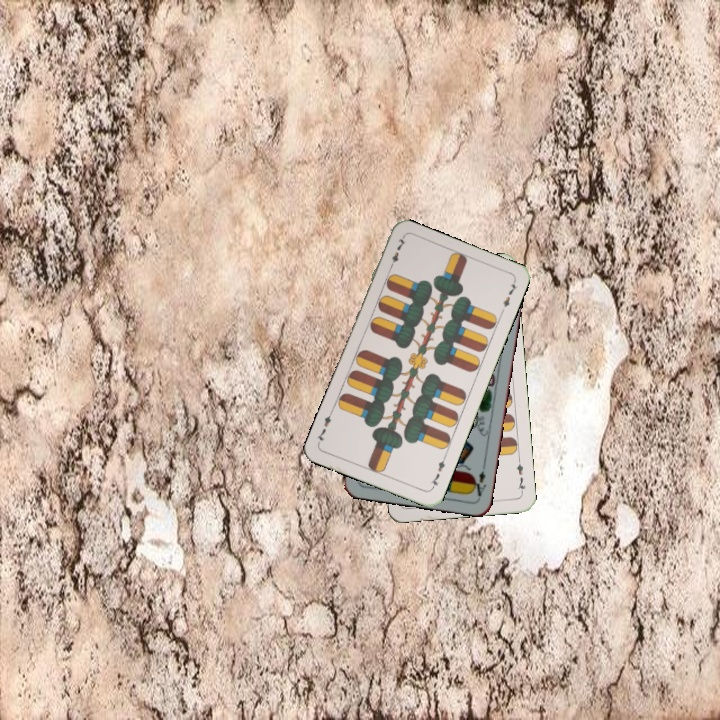E7: (385, 234, 408, 272), (426, 453, 448, 492), (513, 456, 528, 496)
EA: (468, 460, 489, 499)
